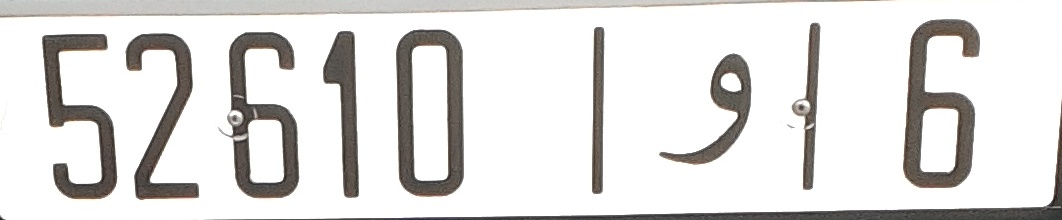0: (392, 24, 471, 200)
1: (319, 24, 369, 200)
2: (119, 30, 203, 203)
5: (38, 24, 118, 205)
6: (900, 14, 984, 192), (222, 27, 301, 201)
waw: (656, 44, 756, 169)
